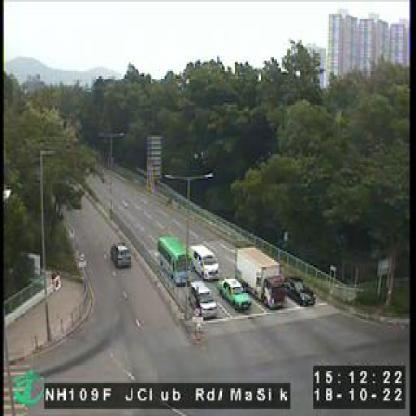Car: (188, 243, 221, 283), (187, 278, 218, 320), (219, 278, 251, 311), (286, 277, 316, 306), (110, 240, 132, 267)
Minibus: (156, 236, 194, 288)
Truck: (236, 245, 288, 307)
